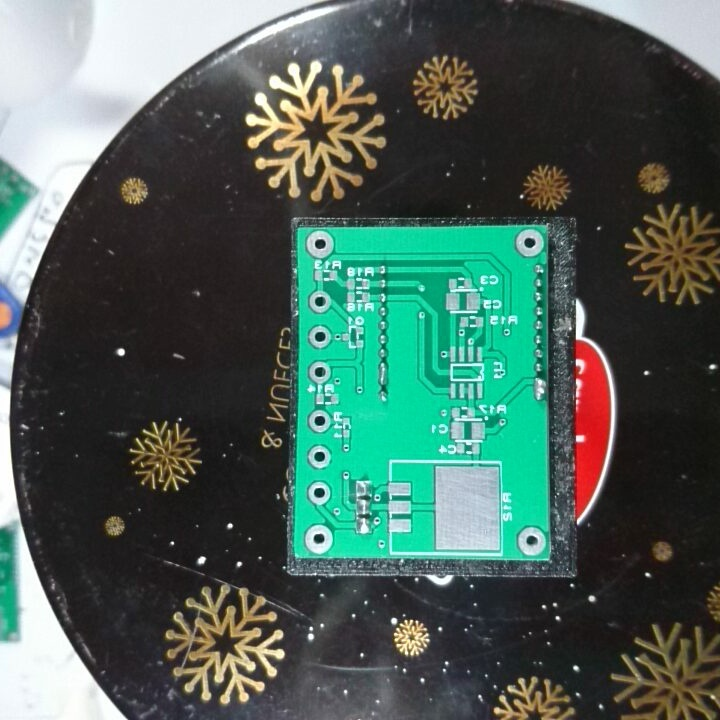F: (515, 523, 549, 557), (303, 522, 336, 556), (303, 228, 337, 260), (514, 227, 545, 260), (305, 443, 334, 472), (306, 406, 334, 435), (306, 323, 334, 351), (305, 479, 333, 507), (306, 289, 332, 316), (307, 359, 332, 385)
P: (374, 358, 392, 389), (531, 374, 548, 401)
